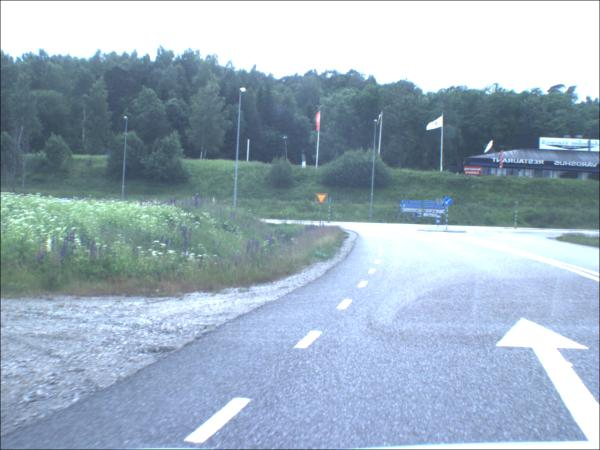GIVE_WAY: (315, 194, 329, 205)
PASS_RIGHT_SIDE: (443, 197, 453, 208)
